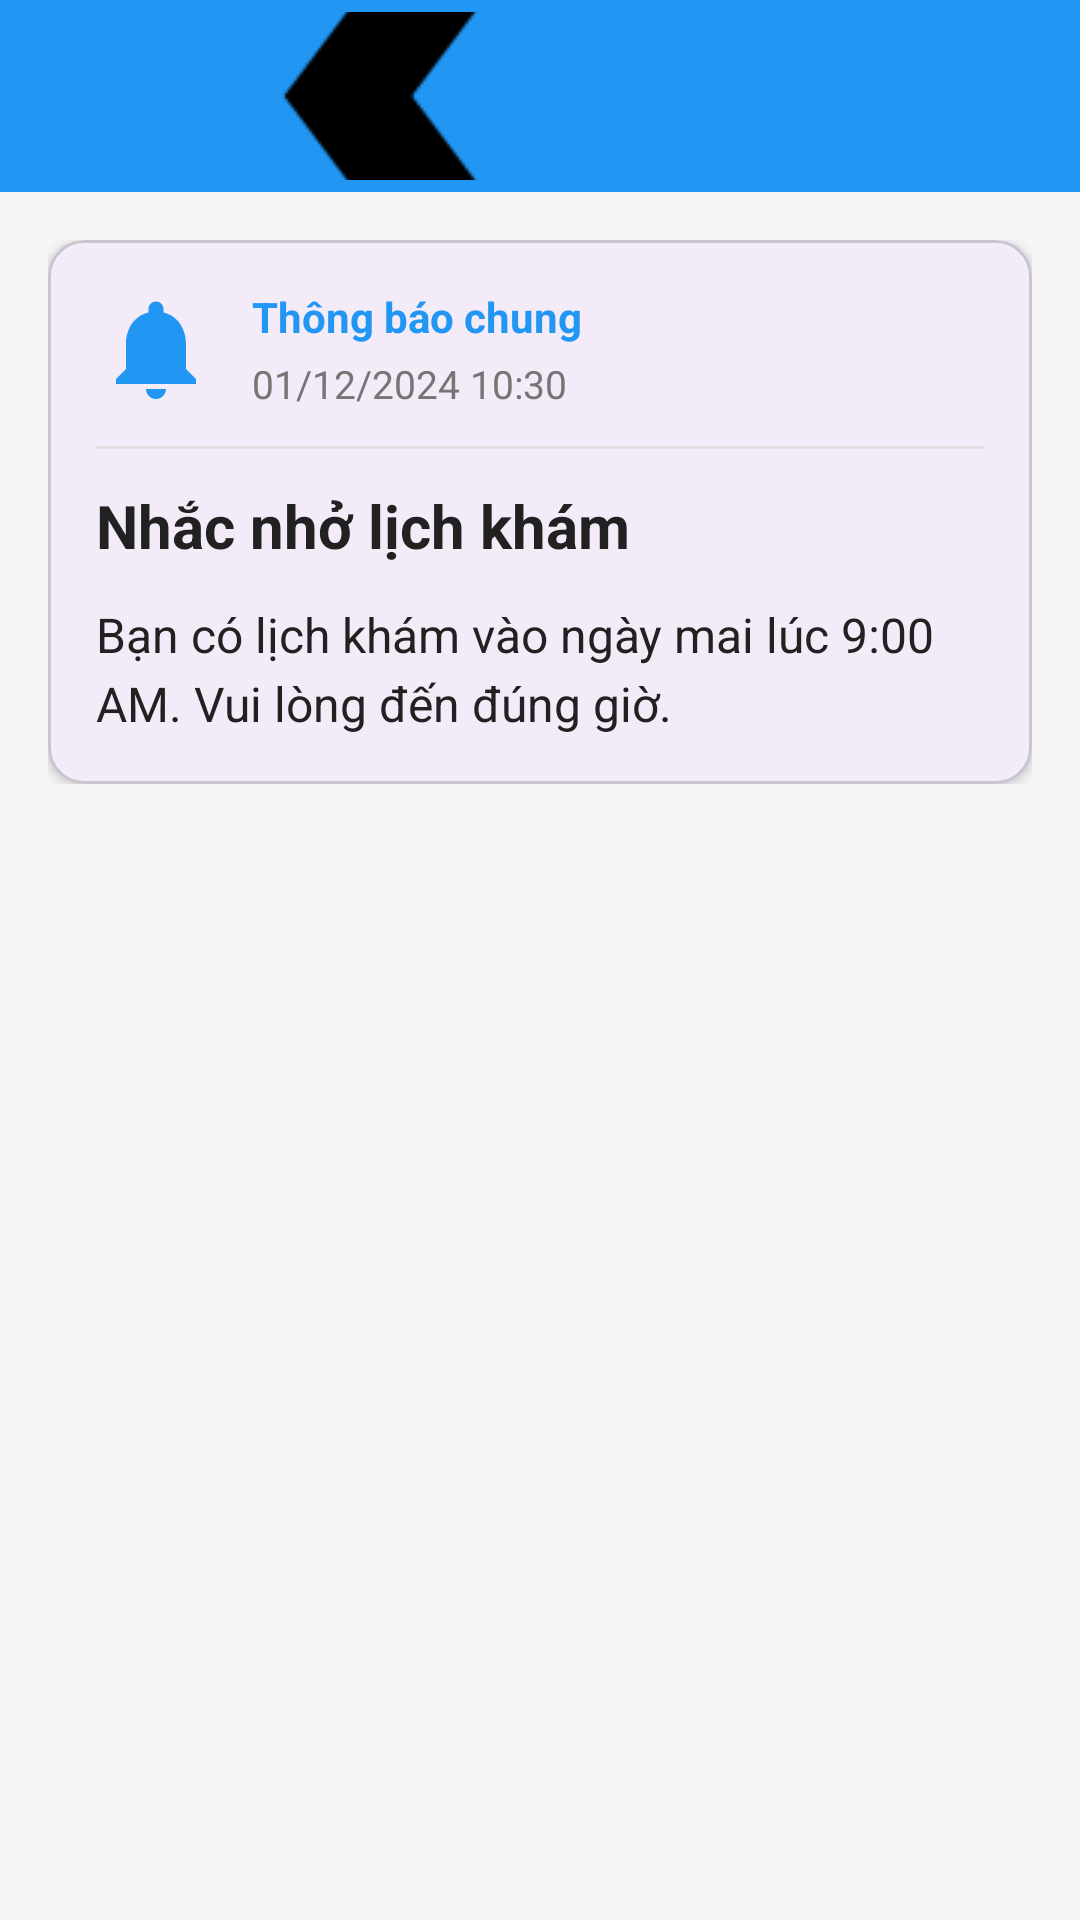

Icons on this 1080 x 1920 Android screen, each with its box as (x1, y1, x2, y2):
notification: (116, 301, 196, 399)
